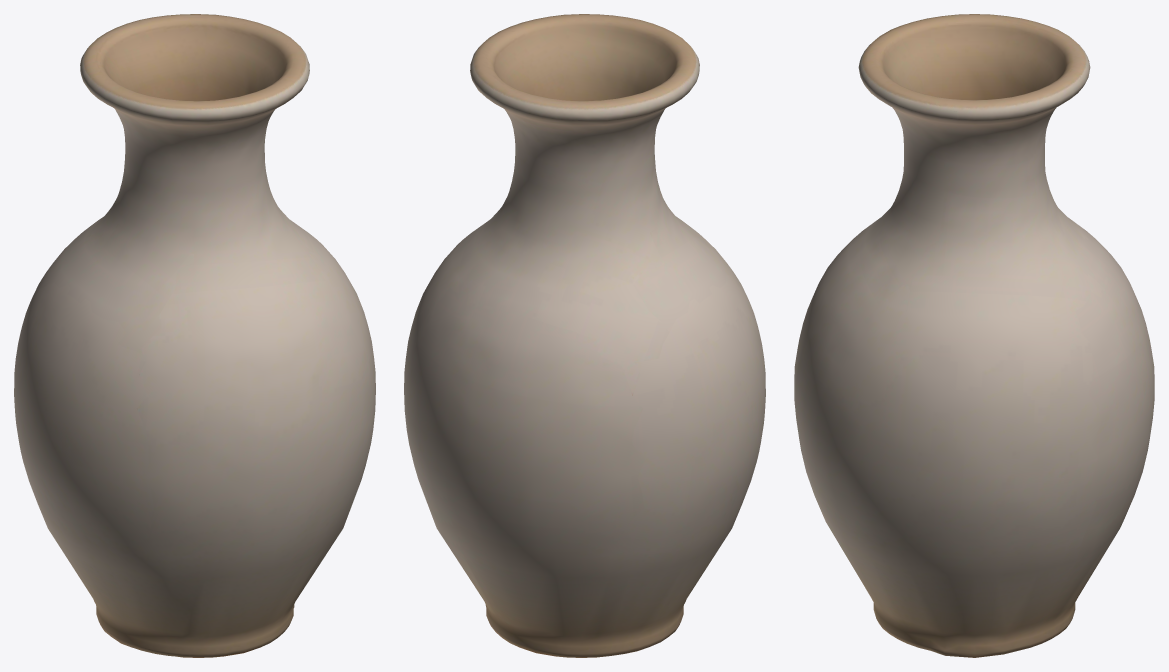
Rendered from a_ceramic_vase_e2f391f8_v4.glb.
3 renders of one model, left to right at view 1: azimuth 30°, elevation 25°; view 2: azimuth 150°, elevation 25°; view 3: azimuth 270°, elevation 25°, orthographic.
Parts seen in each view (by area): view 1: material; view 2: material; view 3: material.
Part boxes in pixels (x1,y1,x2,y2): material: [14, 14, 375, 657]; material: [404, 14, 765, 657]; material: [794, 14, 1154, 657].
Bounding box in the file's own units: 1.12 × 1.9 × 1.12.
1 material, 1 textured.
